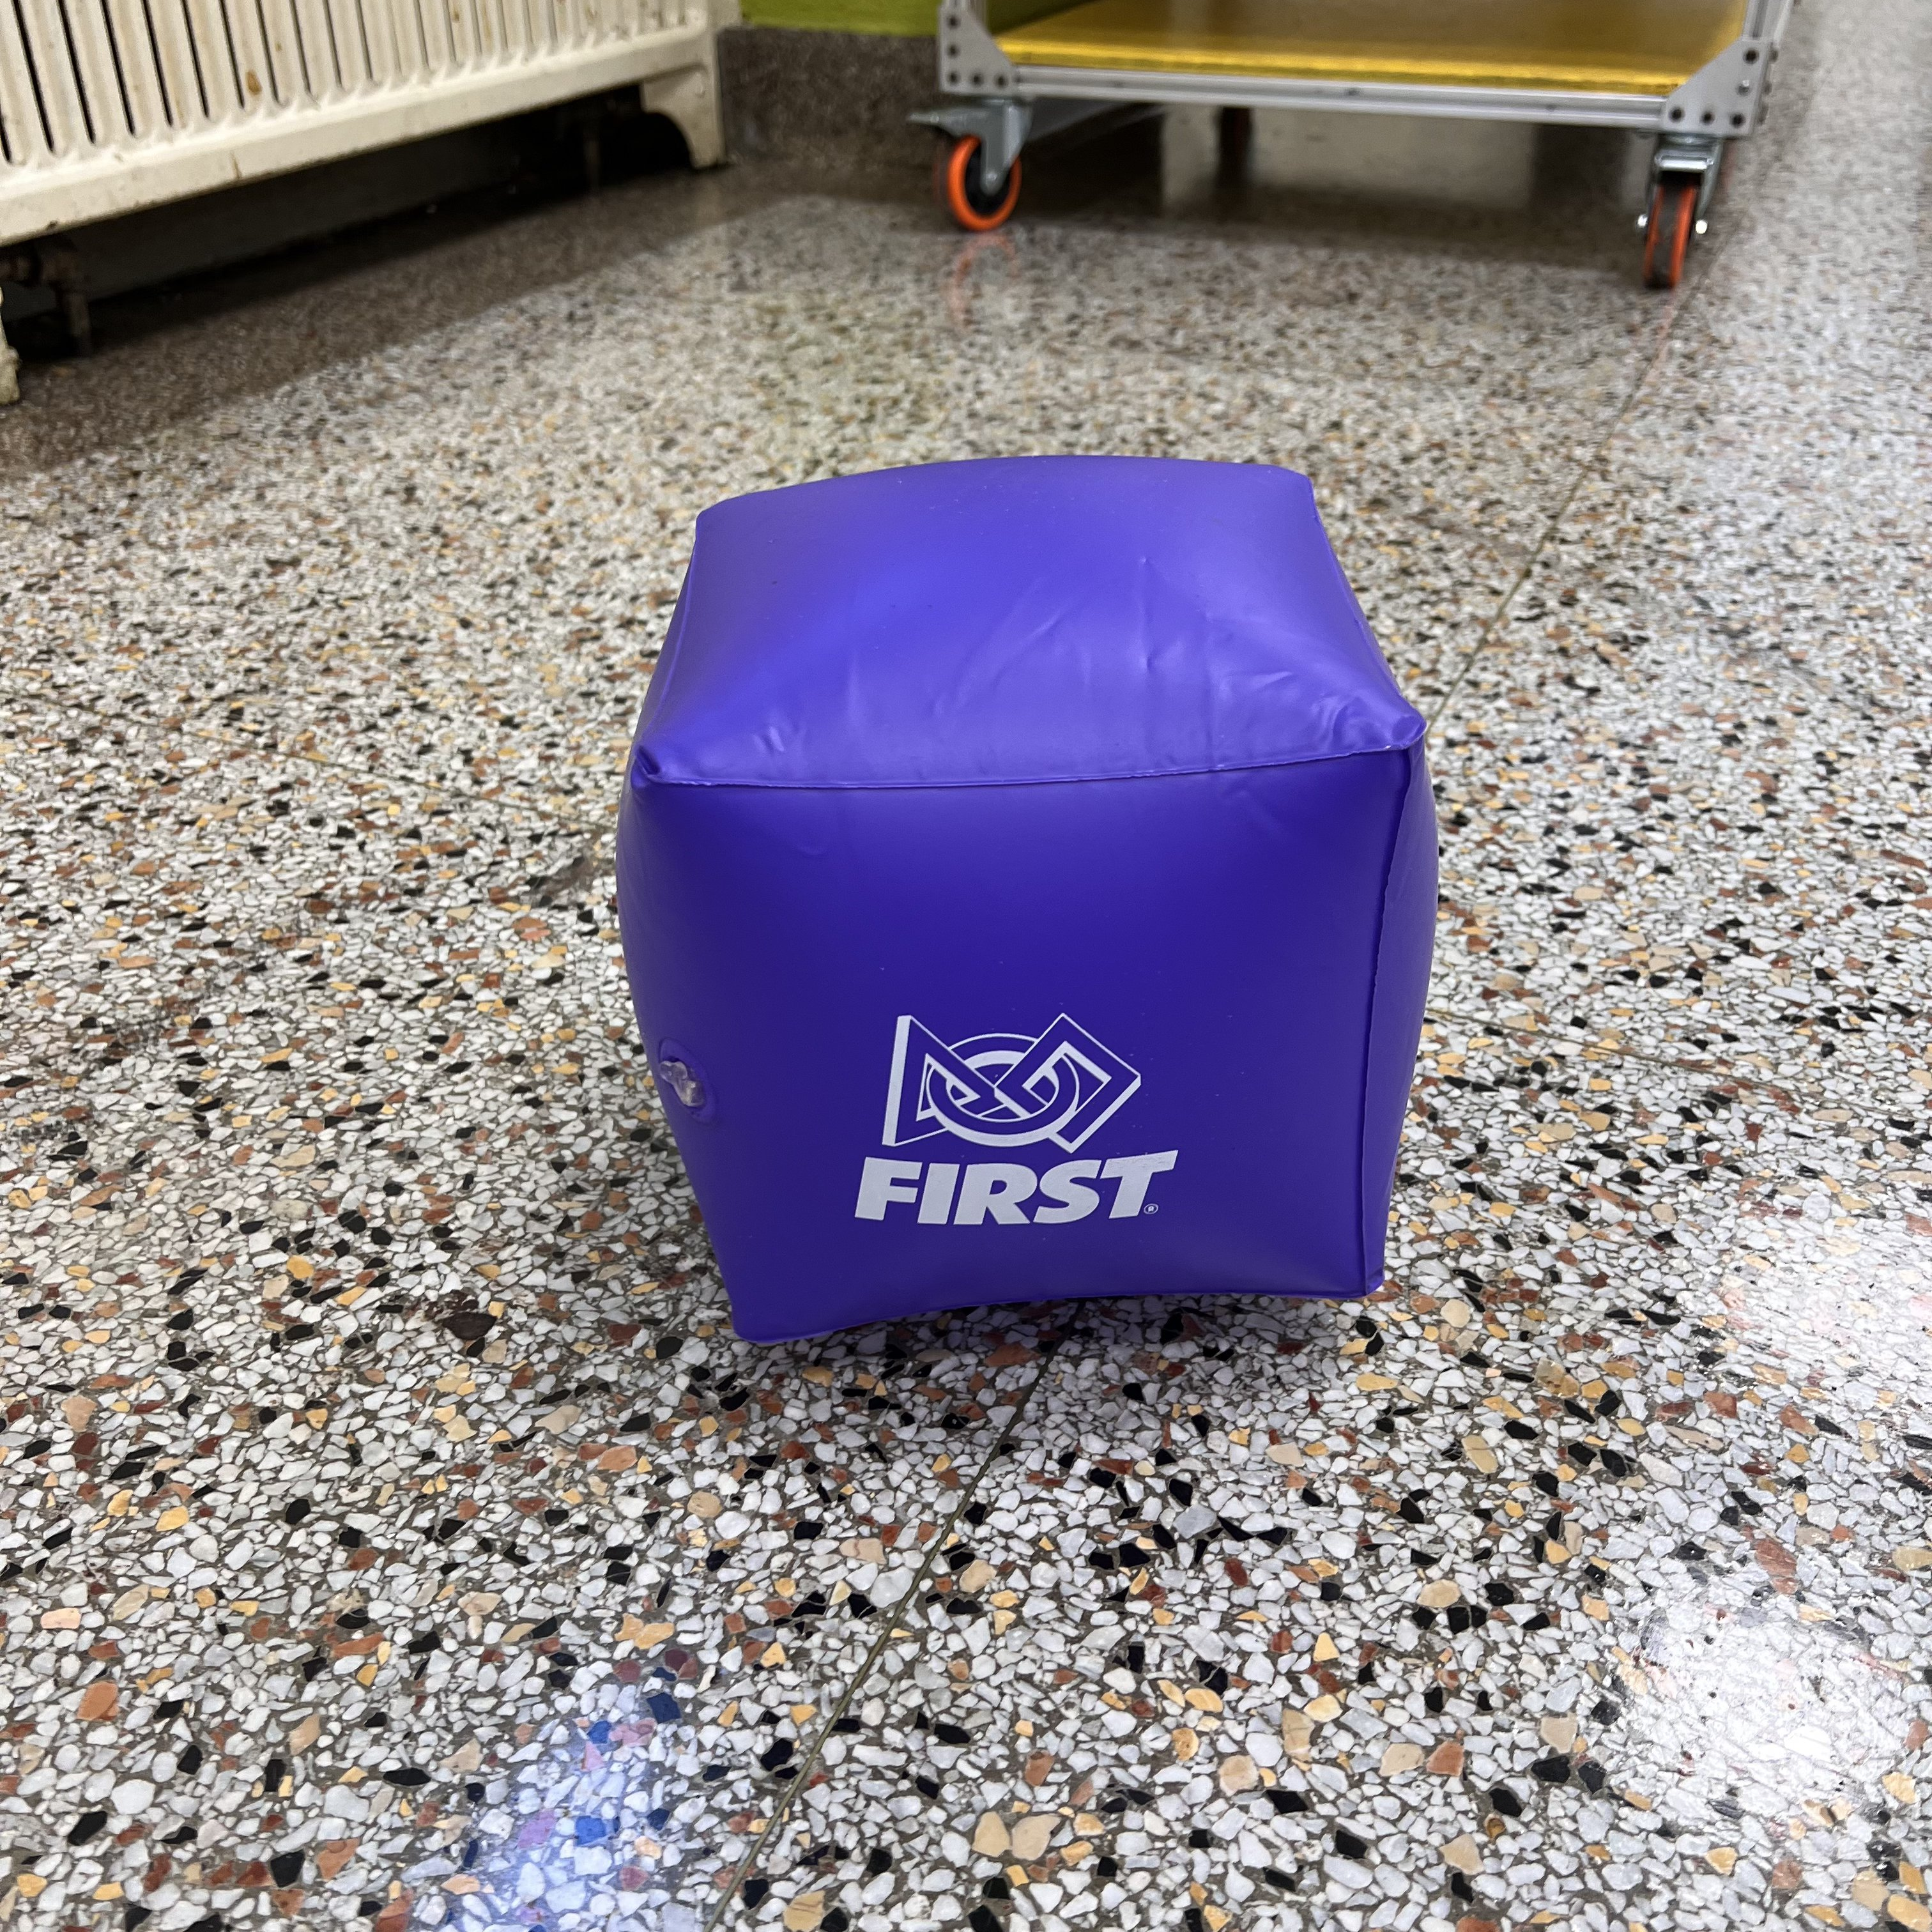cube: (617, 456, 1437, 1341)
